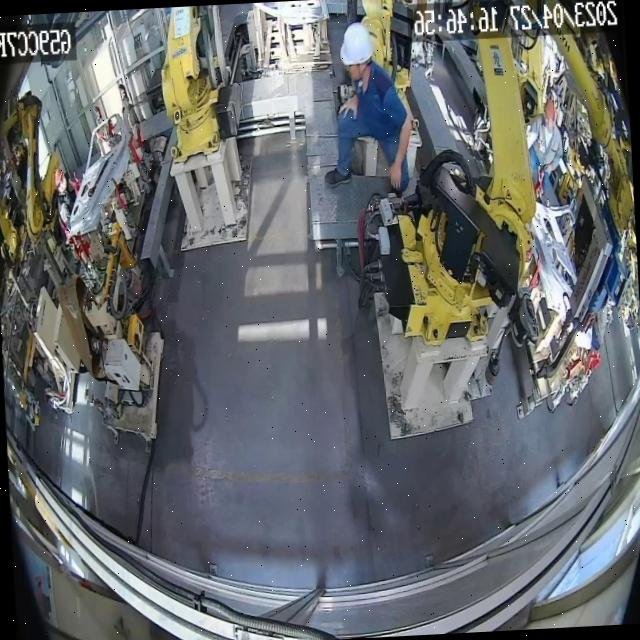Person: (316, 18, 416, 196), (524, 98, 566, 198)
